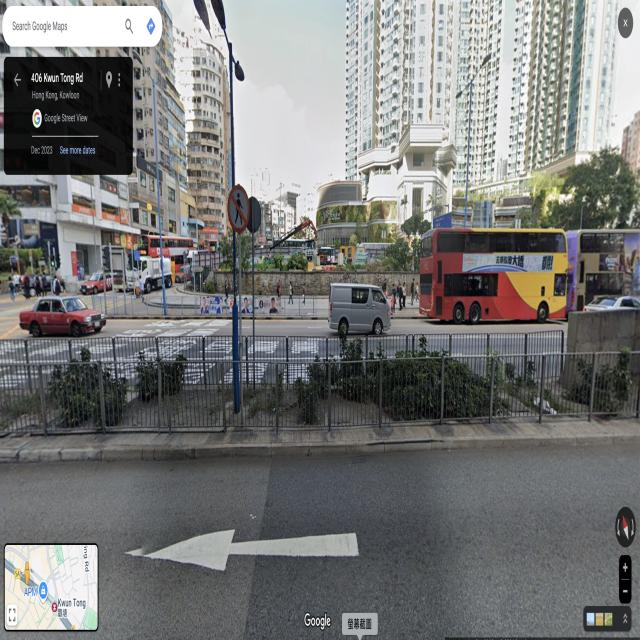Order-Sign: (227, 187, 249, 230)
